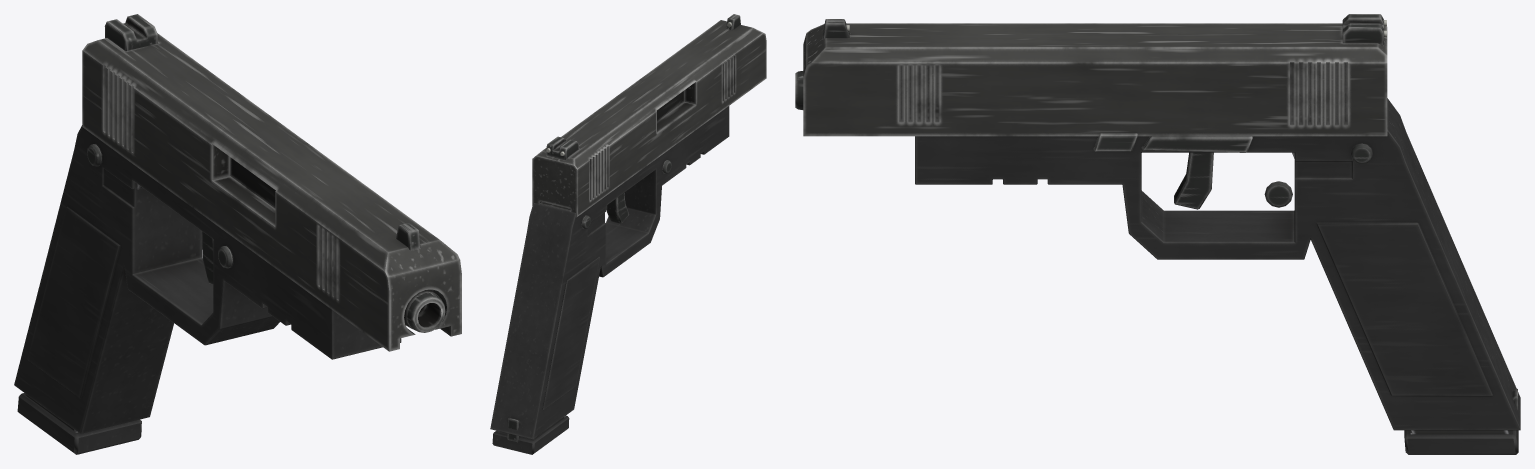
Rendered from service_pistol.glb.
3 views of the same model, side by side, from view 1: azimuth 30°, elevation 25°; view 2: azimuth 150°, elevation 25°; view 3: azimuth 270°, elevation 25° (orthographic). The views are drawn at different scales.
Parts seen in each view (by area): view 1: body, magazine, rear_sight; view 2: body, magazine, rear_sight; view 3: body, magazine, rear_sight.
Part boxes in pixels (box(x1,y1,x2,y2)): body: box(14, 33, 461, 433); magazine: box(17, 184, 141, 454); rear_sight: box(104, 14, 420, 250); body: box(490, 20, 766, 441); magazine: box(492, 415, 569, 454); rear_sight: box(546, 14, 740, 160); body: box(795, 23, 1520, 430); magazine: box(1292, 152, 1518, 454); rear_sight: box(822, 14, 1386, 45).
Bounding box in the file's own units: 0.028 × 0.145 × 0.2273.
1 material, 1 textured.
